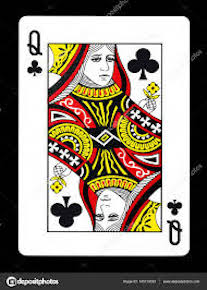QueenOfClubs: (12, 12, 194, 259)
